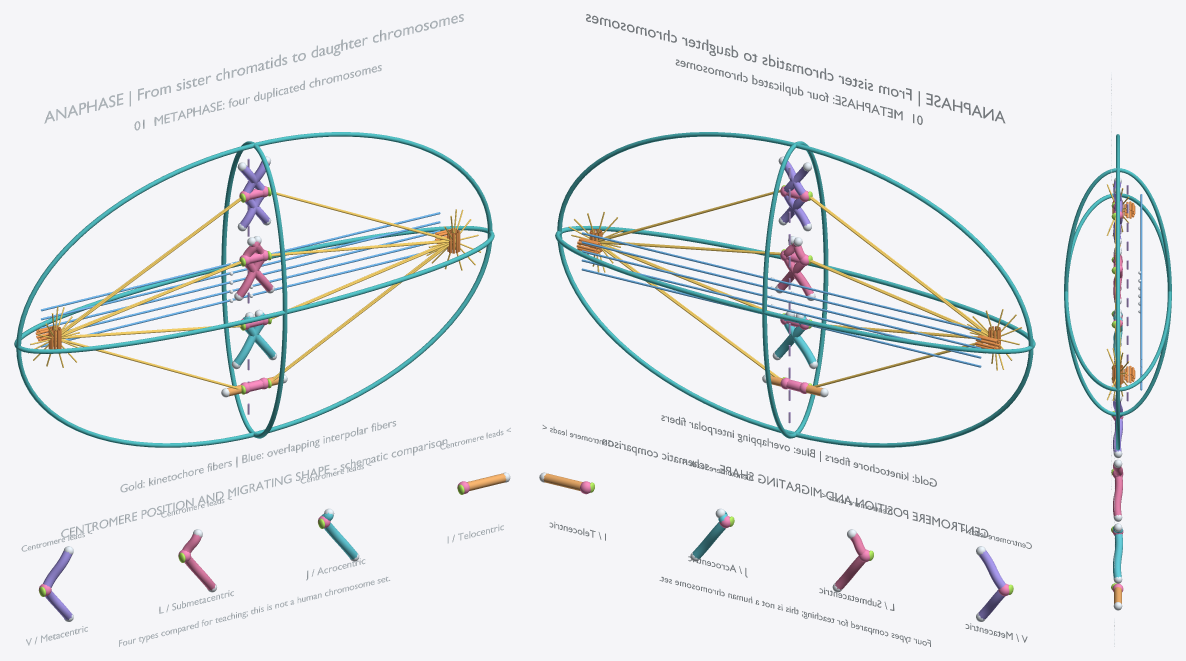
Rendered from anaphase2.glb.
3 renders of one model, left to right at view 1: azimuth 30°, elevation 25°; view 2: azimuth 150°, elevation 25°; view 3: azimuth 270°, elevation 25°, orthographic. The views are drawn at different scales.
Parts seen in each view (by area): view 1: Open cutaway cell boundary.001, Open cutaway cell boundary.003, Open cutaway cell boundary.004, ANAPHASE | From sister chromatids to daughter chromosomes.00, CENTROMERE POSITION AND MIGRATING SHAPE - schematic compari, Gold: kinetochore fibers | Blue: overlapping interpolar fib, 01 METAPHASE: four duplicated chromosomes.001, Four types compared for teaching; this is not a human chrom; view 2: Open cutaway cell boundary.001, Open cutaway cell boundary.003, Open cutaway cell boundary.004, ANAPHASE | From sister chromatids to daughter chromosomes.00, CENTROMERE POSITION AND MIGRATING SHAPE - schematic compari, Gold: kinetochore fibers | Blue: overlapping interpolar fib, 01 METAPHASE: four duplicated chromosomes.001, Four types compared for teaching; this is not a human chrom; view 3: Open cutaway cell boundary.004, Open cutaway cell boundary.003, Open cutaway cell boundary.001, Enlarged J / Acrocentric arm.003, Enlarged L / Submetacentric arm.003, Interpolar overlapping half.014, Interpolar overlapping half.019.
Part boxes in pixels (left/top/right/bottom): Open cutaway cell boundary.001: left=16, top=132, right=492, bottom=447; Open cutaway cell boundary.003: left=14, top=225, right=494, bottom=353; Open cutaway cell boundary.004: left=221, top=141, right=287, bottom=438; ANAPHASE | From sister chromatids to daughter chromosomes.00: left=44, top=14, right=463, bottom=123; CENTROMERE POSITION AND MIGRATING SHAPE - schematic compari: left=61, top=439, right=447, bottom=537; Gold: kinetochore fibers | Blue: overlapping interpolar fib: left=120, top=421, right=396, bottom=492; 01 METAPHASE: four duplicated chromosomes.001: left=134, top=65, right=381, bottom=130; Four types compared for teaching; this is not a human chrom: left=119, top=576, right=390, bottom=646; Open cutaway cell boundary.001: left=557, top=132, right=1033, bottom=447; Open cutaway cell boundary.003: left=555, top=226, right=1035, bottom=353; Open cutaway cell boundary.004: left=762, top=141, right=828, bottom=438; ANAPHASE | From sister chromatids to daughter chromosomes.00: left=586, top=14, right=1005, bottom=123; CENTROMERE POSITION AND MIGRATING SHAPE - schematic compari: left=602, top=439, right=988, bottom=537; Gold: kinetochore fibers | Blue: overlapping interpolar fib: left=661, top=415, right=936, bottom=486; 01 METAPHASE: four duplicated chromosomes.001: left=675, top=59, right=922, bottom=124; Four types compared for teaching; this is not a human chrom: left=659, top=576, right=930, bottom=646; Open cutaway cell boundary.004: left=1064, top=168, right=1171, bottom=416; Open cutaway cell boundary.003: left=1064, top=193, right=1171, bottom=391; Open cutaway cell boundary.001: left=1116, top=134, right=1119, bottom=450; Enlarged J / Acrocentric arm.003: left=1113, top=534, right=1122, bottom=578; Enlarged L / Submetacentric arm.003: left=1113, top=476, right=1122, bottom=516; Interpolar overlapping half.014: left=1140, top=194, right=1142, bottom=289; Interpolar overlapping half.019: left=1140, top=290, right=1142, bottom=359.
Bounding box in the file's own units: 7.43 × 7.99 × 1.66.
